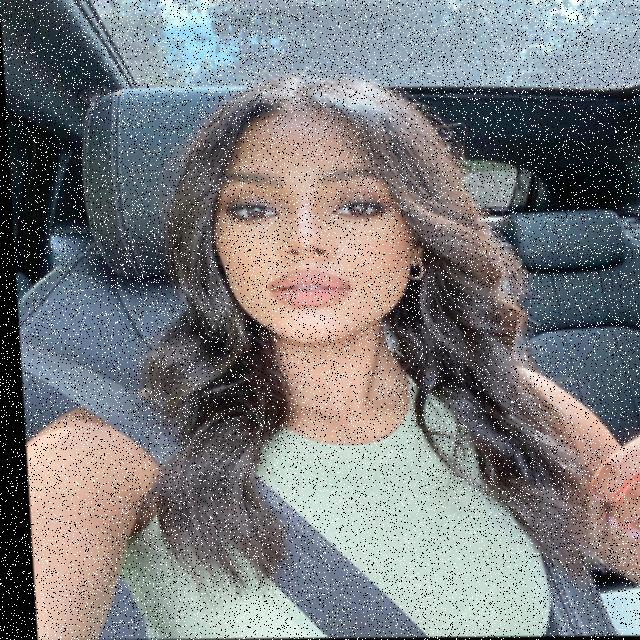seatbelt: (17, 354, 550, 640)
